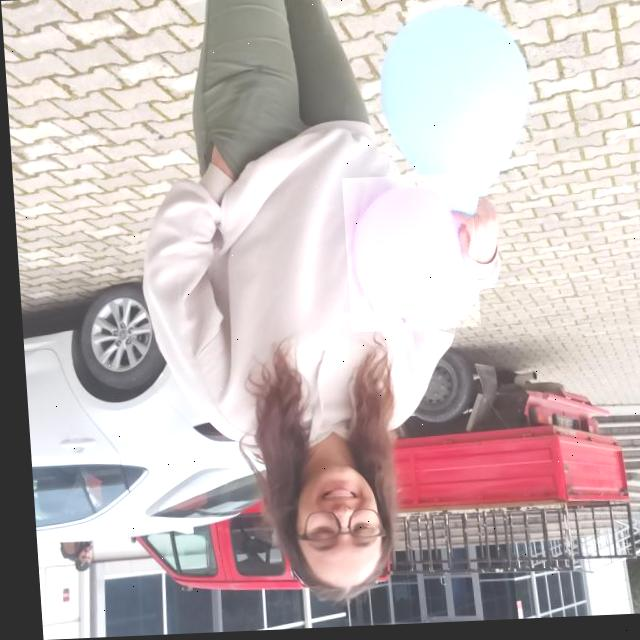balloon: (373, 5, 534, 211), (338, 176, 475, 335)
